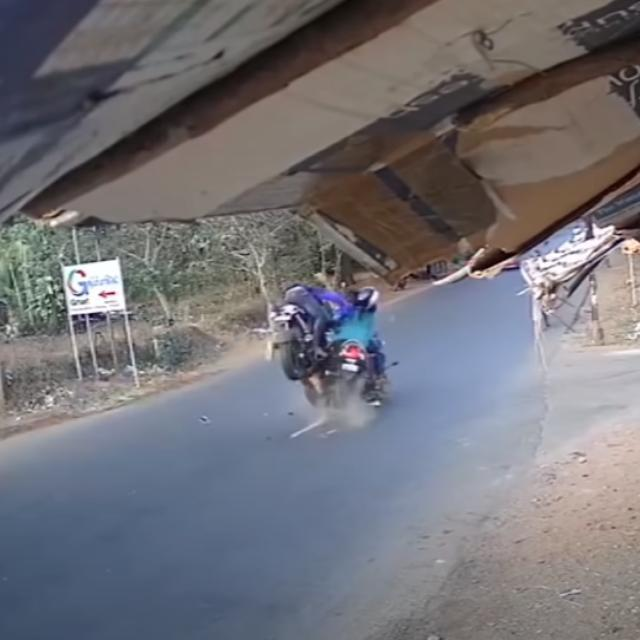accident: (259, 279, 399, 435)
